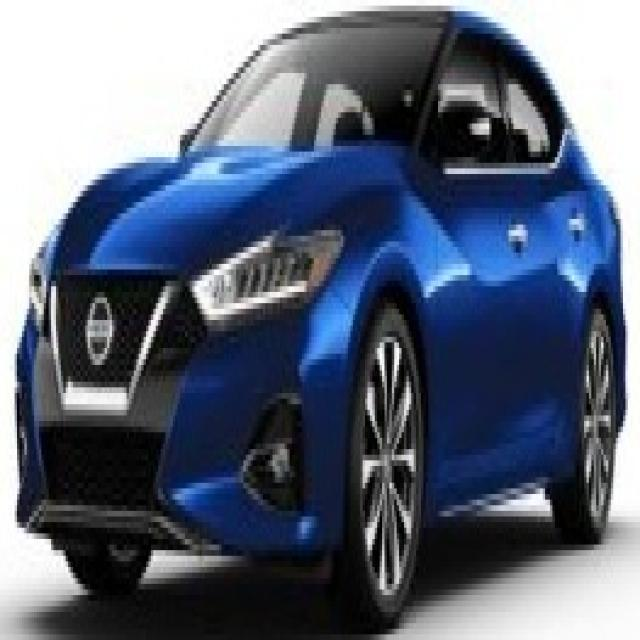blue: (17, 11, 638, 640)
